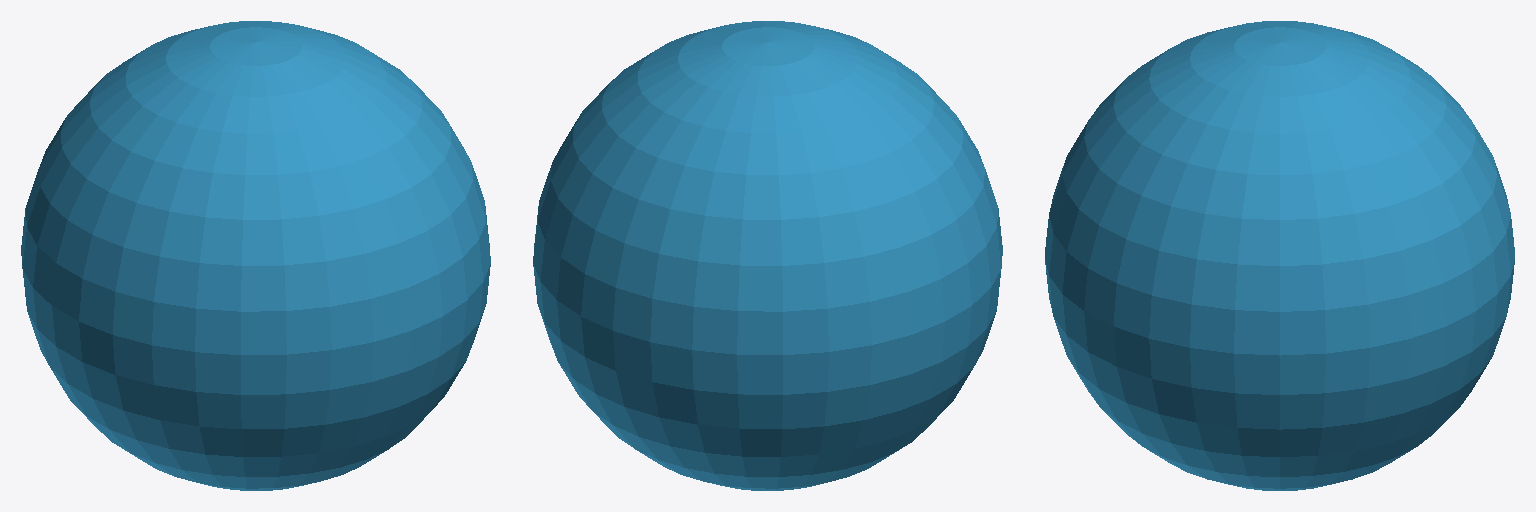
File: sky.obj
3 renders of one model, left to right at view 1: azimuth 30°, elevation 25°; view 2: azimuth 150°, elevation 25°; view 3: azimuth 270°, elevation 25°, orthographic.
Parts seen in each view (by area): view 1: Sphere; view 2: Sphere; view 3: Sphere.
Boxes of the visible parts, box(x1,y1,x2,y2) form: Sphere: box(21, 21, 490, 490); Sphere: box(533, 21, 1002, 490); Sphere: box(1045, 21, 1514, 490).
Bounding box in the file's own units: 4 × 4 × 4.